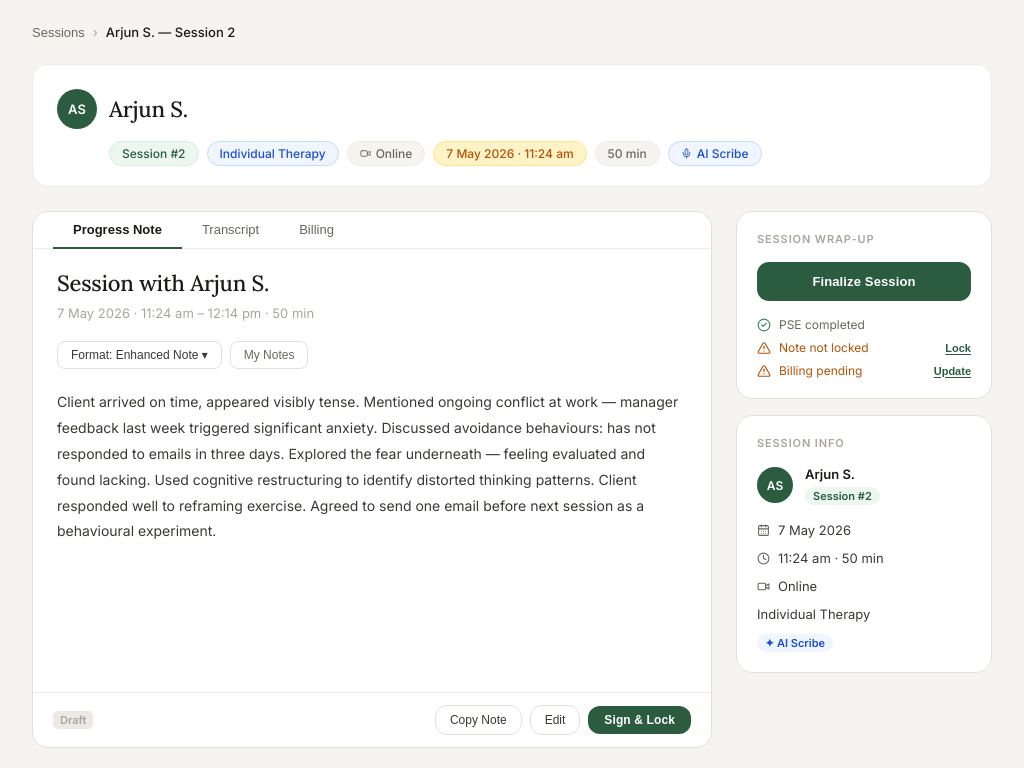
Scenario: <SessionNotes> billing tab › InvoiceDetailModal closes when close button is clicked
The width and height of the screenshot is (1024, 768).
What coordinates should you click on to do the following:
click the button "Billing"
I would click on:
 (317, 230)
Its box is [279, 212, 354, 249].
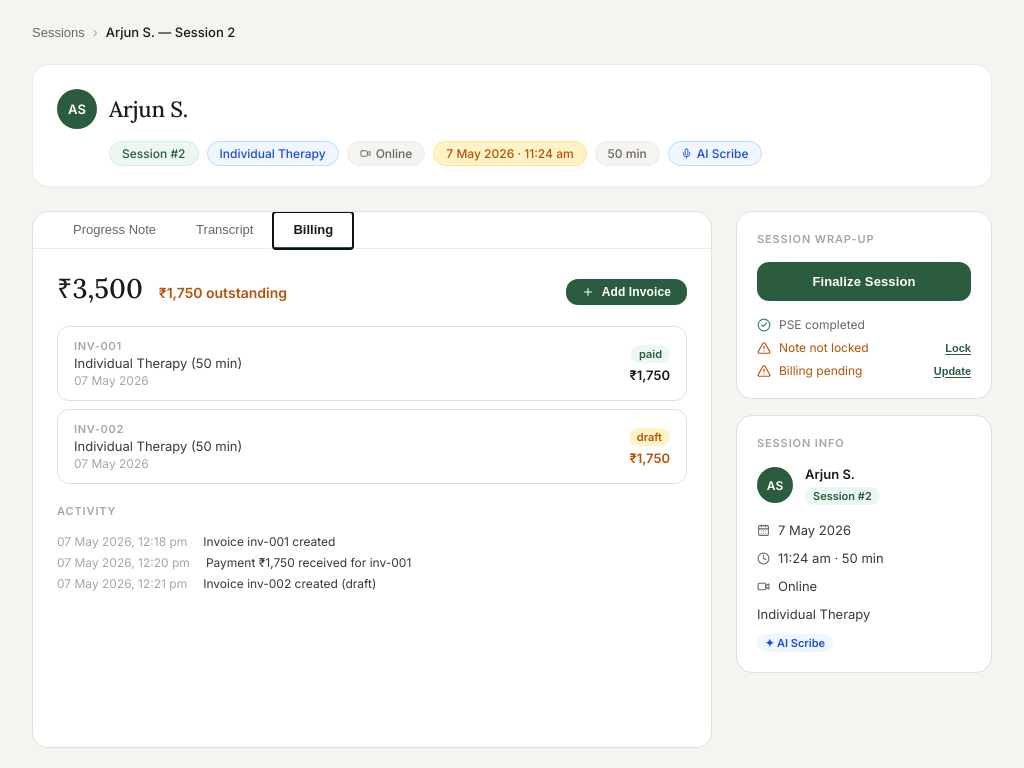
What coordinates should you click on to do the following:
click the text "inv-001"
I would click on:
 (98, 346)
Its box is [74, 339, 122, 353].
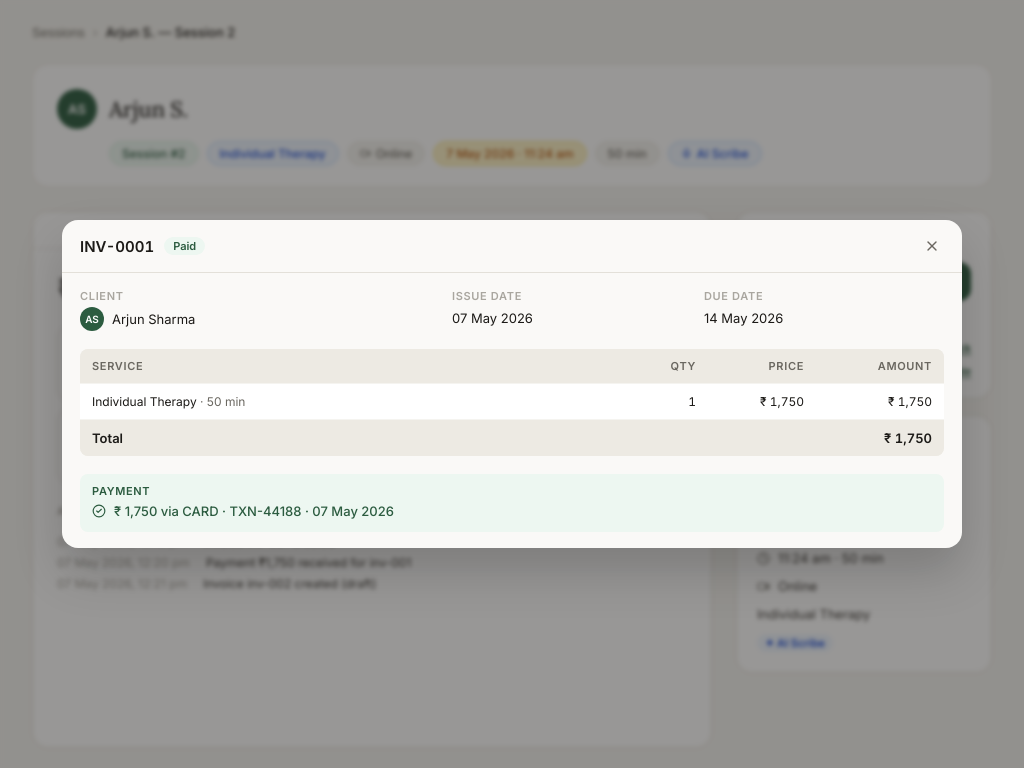
Check: the text "INV-0001" is shown, box [80, 236, 154, 256]
What coordinates should you click on to do the following:
click the button named "Close"
I would click on:
 (932, 246)
Its box is [920, 234, 944, 258].
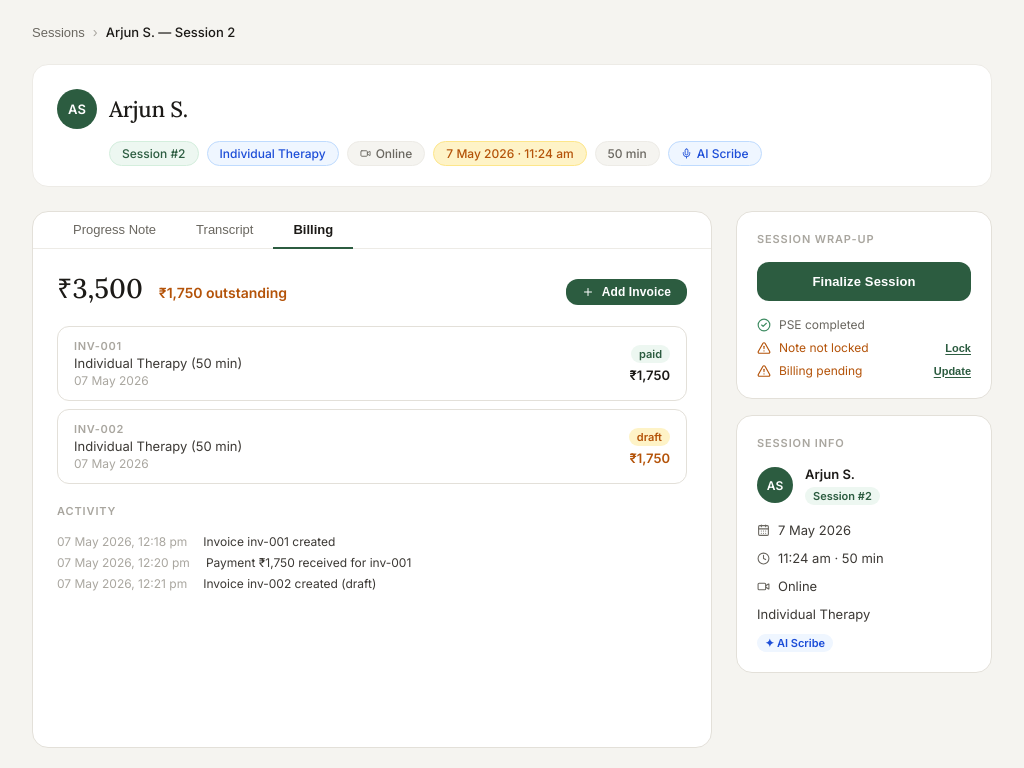
Check: the text "INV-0001" is gone
